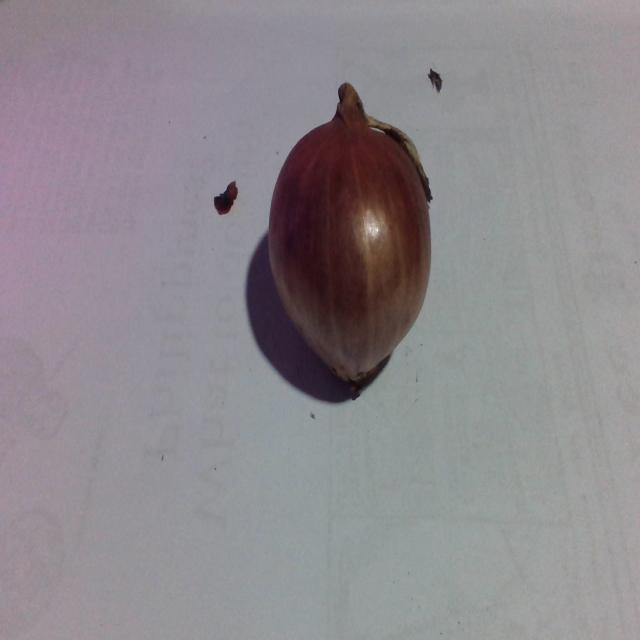onion: (245, 80, 441, 407)
